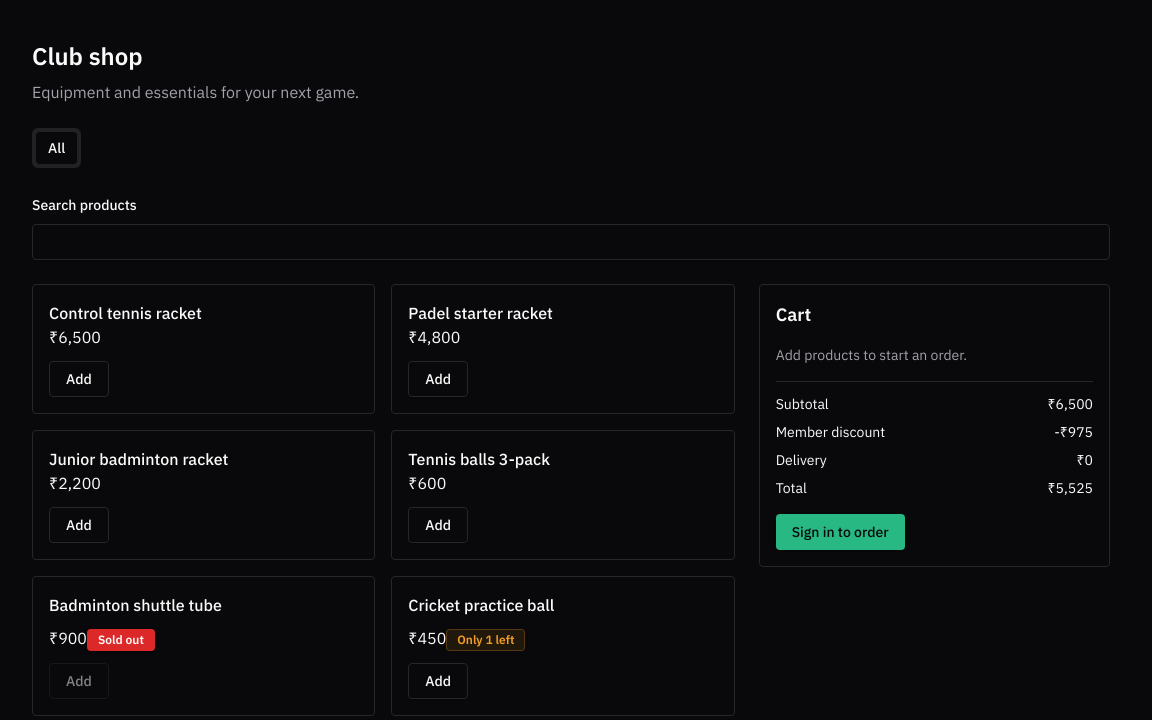
Scenario: shop browser › browses categories and allows cart editing while asking guests to sign in
This screenshot has width=1152, height=720.
Check: the text "Sold out" is shown, box [87, 629, 155, 651]
Check: the button with aria-label "Add Badminton shuttle tube" is disabled, box [49, 663, 109, 699]
Click the button with aria-label "Add Control tennis racket": (79, 379) [49, 361, 109, 397]
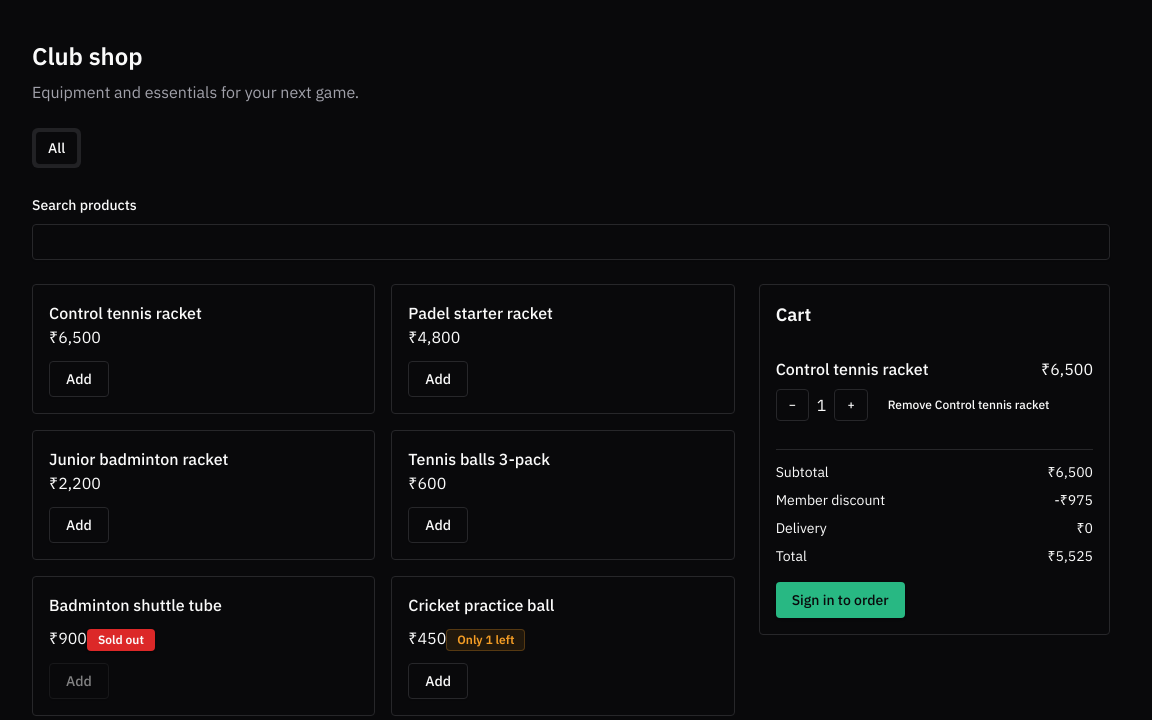
Check: the text named "Quantity for Control tennis racket" reads "1", box [817, 395, 826, 415]
